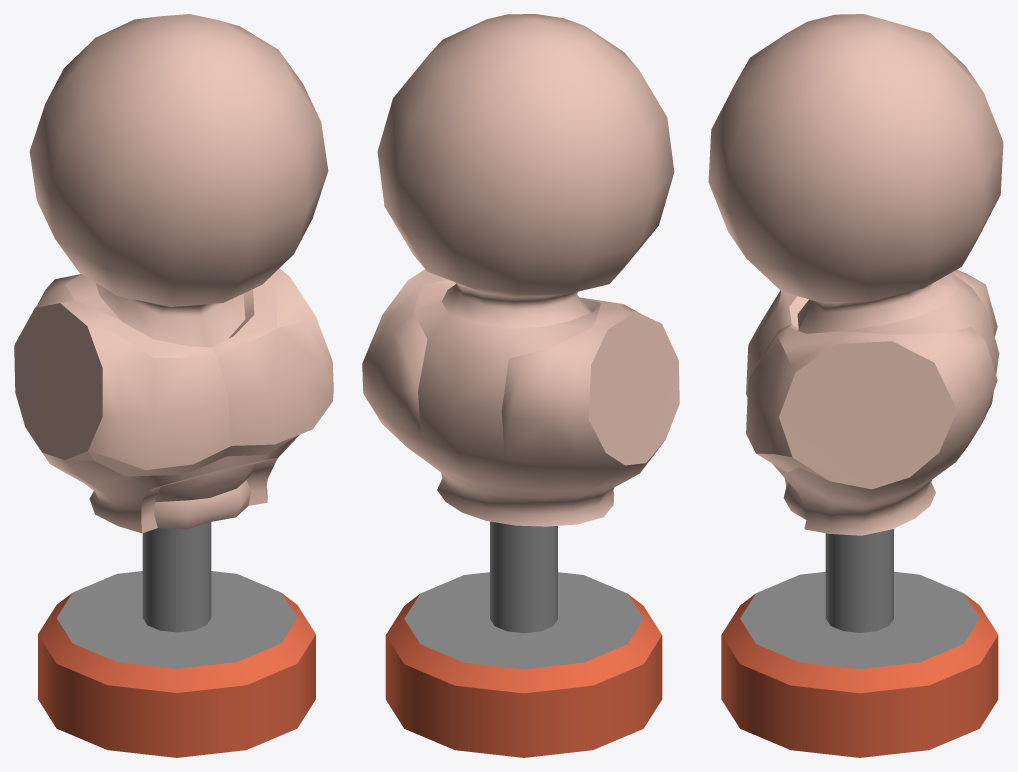
File: blockhead.fbx
3 views of the same model, side by side, from view 1: azimuth 30°, elevation 25°; view 2: azimuth 150°, elevation 25°; view 3: azimuth 270°, elevation 25° (orthographic).
Visible parts, largest first — view 1: blockhead; view 2: blockhead; view 3: blockhead.
Boxes of the visible parts, bbox=[...] form: blockhead: bbox=[14, 14, 333, 757]; blockhead: bbox=[362, 14, 679, 757]; blockhead: bbox=[708, 14, 1003, 757].
Bounding box in the file's own units: 69.22 × 172 × 68.46.
